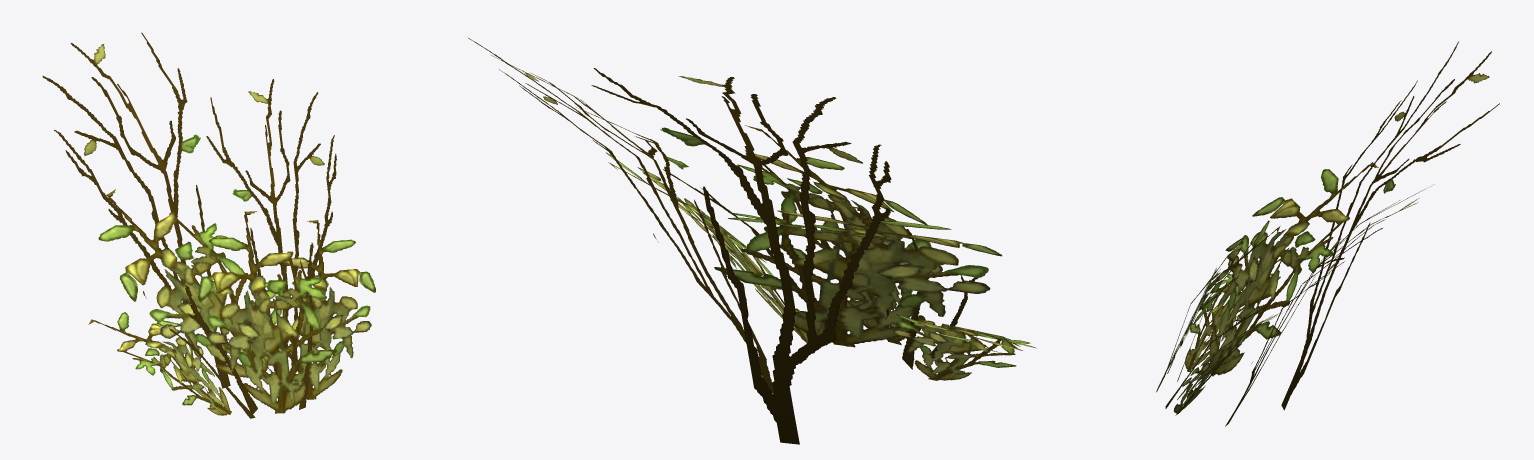
The model's file is 2_Plant_XiaoShuZhi_01.FBX.
3 renders of one model, left to right at view 1: azimuth 30°, elevation 25°; view 2: azimuth 150°, elevation 25°; view 3: azimuth 270°, elevation 25°, orthographic. The views are drawn at different scales.
Visible parts, largest first — view 1: 2_Plant_XiaoShuZhi_01; view 2: 2_Plant_XiaoShuZhi_01; view 3: 2_Plant_XiaoShuZhi_01.
Part boxes in pixels (x1,y1,x2,y2): 2_Plant_XiaoShuZhi_01: (42, 32, 375, 418); 2_Plant_XiaoShuZhi_01: (468, 38, 1036, 444); 2_Plant_XiaoShuZhi_01: (1156, 41, 1499, 426).
Size of the model in its own units: 299 by 259 by 280.
